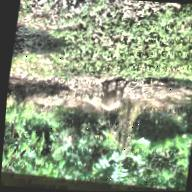boar: (92, 70, 135, 114)
